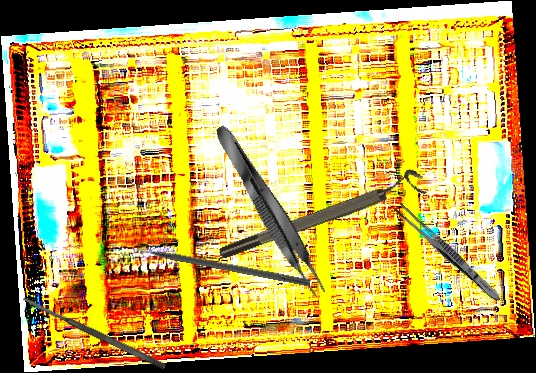Dressing Forceps: (391, 200, 505, 306)
Fixation Ring: (213, 165, 429, 264)
Hook Surgical: (127, 242, 312, 287)
Spatula Surgical: (21, 293, 167, 372)
Tissue Forceps: (208, 119, 333, 302)
